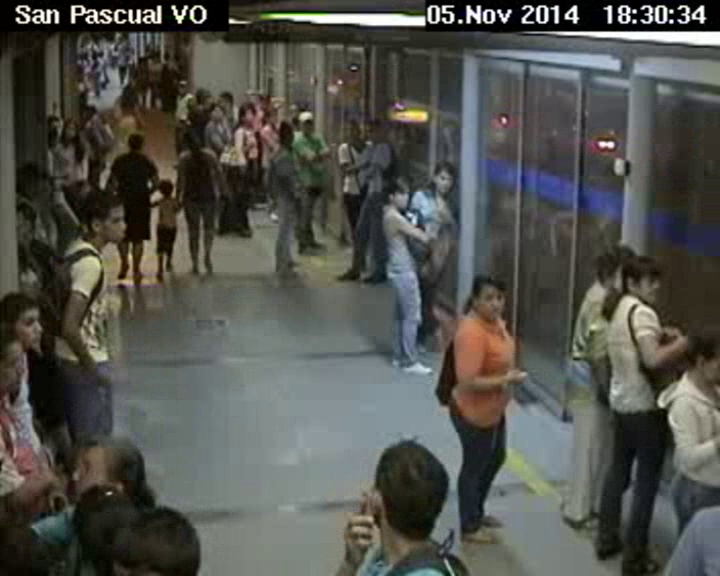person: (359, 429, 449, 556), (64, 478, 144, 576), (109, 505, 214, 576), (67, 432, 144, 501), (75, 184, 130, 245), (589, 238, 639, 296), (682, 319, 720, 390), (1, 295, 50, 350), (619, 256, 664, 308), (462, 267, 510, 315), (1, 329, 32, 399), (429, 158, 456, 201), (383, 173, 412, 211), (17, 163, 40, 197), (237, 100, 254, 130), (182, 127, 203, 151), (64, 118, 82, 146), (125, 128, 143, 155), (48, 112, 64, 140), (297, 109, 314, 135), (366, 117, 384, 140), (343, 119, 359, 144), (276, 122, 292, 147), (154, 176, 175, 194), (218, 90, 236, 109), (209, 103, 226, 122), (84, 96, 101, 114), (263, 108, 277, 128), (176, 78, 189, 96), (259, 91, 271, 109), (122, 83, 132, 96)
